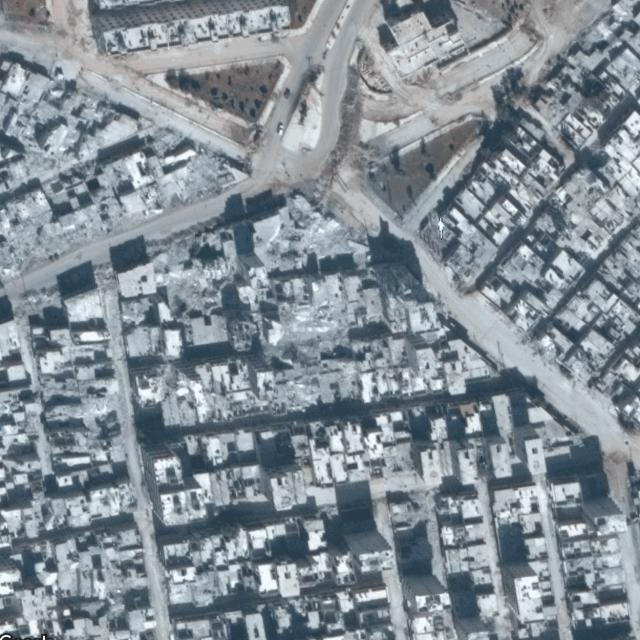damaged_building: (0, 80, 253, 282), (263, 188, 362, 414), (152, 215, 252, 316)
